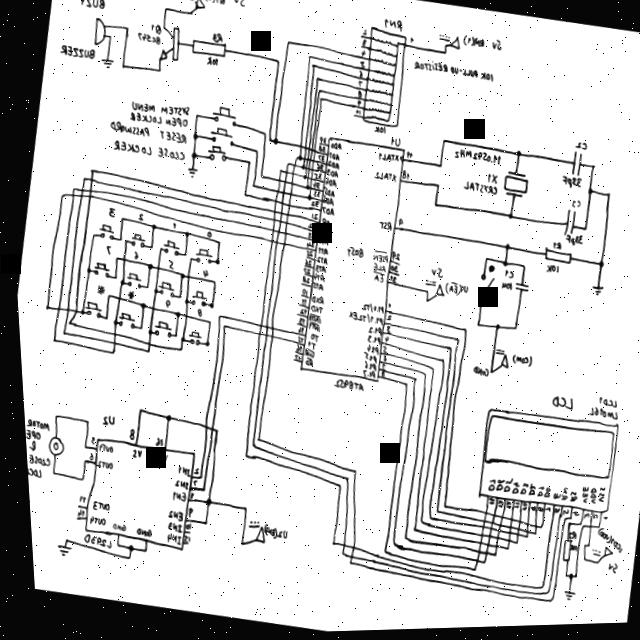capacitor: (559, 212, 574, 242), (568, 153, 580, 180), (510, 284, 525, 296)
crossover: (51, 305, 57, 313), (198, 424, 204, 432), (466, 560, 472, 566), (274, 179, 279, 185), (285, 193, 290, 199), (278, 191, 283, 197), (272, 190, 277, 196), (277, 202, 282, 208), (282, 213, 287, 219), (269, 218, 274, 224), (500, 532, 505, 538), (152, 266, 157, 272), (118, 257, 123, 263), (273, 231, 278, 236), (254, 324, 259, 329), (334, 544, 339, 549), (469, 552, 474, 557), (476, 553, 481, 558), (478, 545, 483, 550), (472, 535, 477, 540), (479, 536, 484, 541), (146, 307, 151, 312), (69, 309, 74, 314), (269, 210, 273, 216), (280, 232, 284, 238), (266, 240, 270, 246), (344, 546, 348, 552), (581, 527, 585, 533), (113, 296, 117, 302), (62, 307, 66, 313), (290, 164, 294, 169), (288, 173, 292, 178), (282, 171, 286, 176), (280, 181, 284, 186), (271, 200, 275, 205), (284, 204, 288, 209), (276, 212, 280, 217), (275, 220, 279, 225), (281, 222, 285, 227), (268, 229, 272, 234), (266, 327, 270, 332), (260, 326, 264, 331), (253, 333, 257, 338), (260, 334, 264, 339), (342, 556, 346, 561), (487, 546, 491, 551), (471, 543, 475, 548), (500, 541, 504, 546), (474, 527, 478, 532), (475, 521, 479, 526), (483, 523, 487, 528), (491, 525, 495, 530), (501, 527, 505, 532), (518, 532, 522, 537), (510, 521, 514, 526), (477, 513, 481, 518), (108, 332, 112, 337), (108, 341, 112, 346), (143, 342, 147, 347), (85, 194, 89, 199), (85, 189, 89, 194), (87, 178, 91, 183), (77, 188, 81, 193), (482, 529, 486, 533), (287, 183, 291, 187), (271, 242, 275, 246), (266, 336, 270, 340), (488, 538, 492, 542), (508, 535, 512, 539), (490, 531, 494, 535), (509, 530, 513, 534), (518, 525, 522, 529), (502, 520, 506, 524), (493, 517, 497, 521), (485, 516, 489, 520), (296, 146, 300, 150), (180, 315, 184, 319), (279, 243, 282, 248), (527, 527, 530, 532), (302, 147, 305, 152), (306, 159, 309, 164), (305, 148, 308, 153), (308, 149, 311, 154), (309, 160, 312, 165), (305, 168, 308, 173), (306, 187, 309, 192), (183, 275, 186, 280), (69, 193, 72, 198), (300, 159, 303, 163), (311, 151, 314, 155), (308, 169, 311, 173), (302, 168, 305, 172), (304, 178, 307, 182), (307, 179, 310, 183), (77, 194, 80, 198), (304, 159, 306, 163)
ground: (49, 544, 65, 557), (183, 167, 196, 182), (586, 287, 600, 300), (99, 58, 113, 70), (555, 593, 568, 604)
junction: (104, 522, 120, 533), (187, 151, 196, 161), (500, 244, 508, 255), (198, 498, 206, 508), (159, 413, 167, 423), (135, 301, 143, 311), (190, 132, 197, 142), (204, 301, 211, 311), (594, 263, 601, 272), (584, 190, 591, 199), (489, 325, 496, 334), (384, 541, 391, 550), (503, 215, 510, 223), (273, 59, 280, 67), (429, 203, 436, 211), (119, 63, 126, 71), (235, 506, 242, 514), (143, 263, 150, 271), (512, 153, 519, 161), (120, 544, 127, 552), (132, 407, 138, 416), (118, 555, 125, 562), (588, 166, 594, 174), (435, 164, 441, 172), (471, 323, 477, 331), (508, 326, 514, 334), (603, 194, 609, 202), (517, 265, 523, 273), (47, 413, 53, 421), (432, 184, 438, 192), (200, 341, 206, 349), (578, 228, 584, 236), (155, 67, 161, 75), (212, 240, 218, 248), (40, 303, 46, 311), (87, 167, 93, 175), (123, 25, 129, 33), (79, 418, 85, 426), (256, 173, 262, 181), (458, 328, 464, 336), (270, 139, 276, 147), (260, 132, 266, 140), (211, 259, 217, 267), (171, 311, 177, 319), (498, 262, 504, 270), (483, 370, 489, 378), (192, 113, 198, 120), (196, 520, 202, 527), (45, 469, 51, 476), (345, 470, 351, 477), (47, 337, 53, 344), (439, 140, 445, 147), (435, 505, 441, 512), (147, 224, 153, 231), (73, 475, 79, 482), (474, 561, 480, 568), (135, 547, 141, 554), (176, 273, 182, 280), (108, 319, 114, 326), (448, 339, 455, 345), (243, 161, 249, 168), (208, 427, 213, 435), (304, 195, 309, 203), (162, 7, 168, 13), (485, 554, 491, 560), (217, 324, 223, 330), (181, 232, 187, 238), (116, 217, 122, 223), (330, 484, 336, 490), (395, 537, 401, 543), (57, 192, 62, 199), (232, 541, 237, 548), (176, 337, 181, 344), (88, 232, 93, 239), (180, 252, 185, 259), (398, 383, 403, 390), (425, 368, 430, 375), (213, 314, 218, 321), (180, 299, 185, 306), (149, 288, 154, 295), (116, 279, 121, 286), (83, 267, 88, 274), (252, 150, 257, 157), (240, 192, 245, 199), (283, 162, 288, 169), (338, 477, 343, 484), (57, 537, 62, 544), (531, 586, 536, 593), (375, 550, 380, 557), (412, 520, 417, 527), (195, 487, 200, 494), (174, 347, 179, 353), (324, 541, 329, 547), (407, 378, 412, 384), (76, 459, 81, 465), (417, 374, 422, 380), (208, 281, 213, 287), (120, 239, 125, 245), (134, 326, 139, 332), (63, 320, 68, 326), (57, 330, 62, 336), (106, 350, 111, 356), (115, 237, 120, 243), (248, 184, 253, 190), (276, 169, 281, 175), (173, 295, 178, 301), (284, 42, 290, 47), (306, 56, 311, 62), (317, 98, 322, 104), (480, 259, 485, 265), (250, 437, 255, 443), (532, 527, 537, 533), (537, 592, 542, 598), (405, 528, 410, 534), (421, 517, 426, 523), (77, 444, 82, 450), (295, 157, 300, 163), (188, 11, 193, 17), (333, 552, 338, 558), (561, 576, 565, 583), (465, 570, 470, 575), (146, 245, 151, 250), (169, 334, 174, 339), (309, 65, 314, 70), (108, 543, 113, 548), (428, 511, 433, 516), (420, 300, 425, 305), (436, 360, 440, 366), (443, 348, 447, 354), (76, 309, 80, 315), (100, 315, 104, 321), (142, 349, 146, 355), (266, 138, 270, 144), (314, 78, 318, 84), (107, 34, 111, 40), (560, 524, 564, 530), (542, 599, 546, 605), (303, 186, 307, 192), (300, 176, 304, 182), (298, 166, 302, 172), (193, 475, 197, 481), (238, 454, 242, 459), (341, 562, 345, 567), (518, 537, 522, 542), (246, 444, 250, 449), (498, 548, 502, 553), (203, 321, 207, 326), (186, 257, 190, 262), (155, 247, 159, 252), (141, 285, 145, 290), (111, 256, 115, 261), (316, 90, 320, 95), (442, 53, 446, 58), (442, 46, 446, 51), (574, 527, 578, 532), (575, 560, 579, 565), (526, 534, 530, 539), (110, 276, 114, 280), (69, 187, 73, 191), (571, 525, 575, 529), (566, 577, 570, 581), (421, 292, 425, 296), (576, 546, 579, 551), (293, 157, 296, 162), (562, 519, 565, 524), (556, 520, 559, 525), (508, 543, 511, 547), (80, 177, 83, 181), (590, 528, 593, 532), (557, 577, 560, 581), (580, 547, 583, 551), (588, 564, 591, 568)
resistor: (190, 39, 226, 59), (539, 249, 569, 268), (554, 542, 566, 565)
switch: (209, 106, 237, 128), (207, 127, 233, 148), (473, 275, 491, 305), (148, 320, 169, 339), (204, 146, 225, 164), (153, 281, 172, 300), (158, 240, 178, 258), (113, 312, 132, 330), (186, 290, 204, 309), (121, 272, 139, 290), (94, 223, 112, 241), (80, 301, 98, 319), (191, 249, 210, 266), (89, 262, 107, 279), (127, 233, 143, 249), (183, 331, 198, 348)
terminal: (247, 527, 259, 545), (448, 38, 461, 53), (495, 356, 505, 372), (193, 0, 206, 11), (595, 549, 606, 561), (431, 286, 441, 299)
text: (411, 60, 495, 86), (107, 120, 186, 146), (109, 137, 184, 164), (129, 98, 189, 120), (127, 110, 187, 131), (450, 149, 501, 169), (588, 530, 617, 557), (58, 43, 95, 62), (459, 182, 496, 199), (582, 408, 614, 426), (343, 312, 379, 328), (255, 524, 282, 543), (328, 379, 359, 395), (76, 533, 106, 549), (440, 282, 465, 301), (21, 449, 46, 467), (545, 397, 569, 415), (19, 416, 45, 432), (461, 36, 484, 52), (136, 32, 161, 46), (371, 172, 395, 186), (382, 19, 403, 35), (356, 303, 380, 317), (558, 178, 579, 193), (507, 355, 528, 370), (592, 398, 613, 413), (79, 0, 105, 11), (375, 153, 397, 166), (560, 237, 580, 251), (368, 251, 386, 266), (342, 247, 361, 261), (466, 367, 484, 381), (85, 500, 104, 513), (82, 514, 100, 527), (159, 533, 175, 547), (160, 510, 177, 523), (90, 459, 108, 471), (22, 465, 37, 479), (20, 428, 36, 441), (357, 353, 373, 366), (96, 414, 110, 428), (541, 265, 556, 278), (165, 491, 180, 504), (129, 527, 145, 539), (160, 522, 176, 534), (362, 327, 378, 339), (573, 488, 583, 507), (496, 479, 507, 496), (375, 221, 389, 234), (367, 273, 381, 286), (92, 443, 108, 454), (167, 480, 183, 491), (387, 137, 400, 150), (426, 269, 440, 281), (171, 466, 185, 478), (361, 346, 375, 358), (358, 362, 372, 374), (368, 264, 383, 275), (361, 336, 376, 347), (202, 0, 225, 7), (490, 41, 502, 54), (322, 178, 335, 190), (320, 188, 333, 200), (319, 196, 332, 208), (303, 323, 316, 335), (149, 452, 163, 463), (323, 170, 337, 181), (590, 489, 599, 506), (582, 491, 591, 508), (480, 481, 490, 496), (211, 33, 223, 45), (149, 24, 161, 36), (299, 349, 311, 361), (205, 57, 218, 68), (325, 162, 338, 173), (304, 315, 317, 326), (484, 175, 495, 188), (357, 371, 371, 381), (318, 208, 332, 218), (305, 306, 319, 316), (553, 489, 562, 504), (497, 283, 509, 294), (326, 153, 338, 164), (371, 127, 384, 137), (92, 284, 102, 297), (572, 144, 585, 154), (488, 481, 498, 494), (512, 485, 522, 498), (309, 274, 322, 284), (307, 296, 320, 306), (232, 0, 246, 9), (504, 483, 513, 497), (548, 243, 559, 254), (125, 448, 136, 459), (600, 565, 610, 577), (328, 143, 340, 153), (314, 238, 326, 248), (311, 266, 323, 276), (308, 283, 320, 293), (22, 439, 31, 452), (312, 258, 325, 267), (122, 428, 130, 442), (521, 485, 529, 499), (305, 334, 315, 345), (302, 342, 312, 353), (299, 358, 309, 369), (318, 219, 328, 230), (314, 248, 325, 258), (388, 252, 397, 264), (562, 494, 571, 506), (530, 488, 538, 501), (568, 202, 578, 212), (500, 272, 510, 282), (148, 438, 158, 448), (317, 230, 327, 240), (399, 172, 408, 183), (122, 290, 131, 301), (163, 260, 172, 271), (561, 533, 570, 544), (537, 489, 544, 502), (297, 277, 307, 286), (302, 242, 312, 251), (394, 219, 402, 230), (105, 207, 113, 218), (180, 508, 187, 520), (309, 182, 318, 191), (403, 152, 411, 162), (134, 212, 142, 222), (304, 224, 314, 232), (70, 508, 78, 517), (72, 495, 80, 504), (561, 547, 570, 555), (386, 267, 395, 275), (290, 345, 298, 354), (304, 233, 313, 241), (317, 137, 325, 146), (313, 164, 321, 173), (307, 201, 316, 209), (84, 436, 91, 446), (129, 251, 136, 261), (310, 174, 320, 181), (102, 245, 108, 256), (357, 62, 365, 70), (546, 495, 554, 503), (481, 500, 489, 508), (385, 277, 393, 285), (292, 337, 300, 345), (299, 269, 307, 277), (302, 251, 310, 259), (307, 214, 315, 222), (316, 147, 324, 155), (315, 156, 323, 164), (310, 192, 318, 200), (192, 309, 199, 318), (198, 270, 205, 279), (178, 523, 185, 532), (177, 535, 184, 544), (576, 515, 583, 524), (514, 505, 521, 514), (498, 503, 505, 512), (490, 502, 497, 511), (294, 318, 301, 327), (82, 452, 88, 462), (161, 299, 167, 309), (381, 316, 388, 324), (353, 110, 360, 118), (187, 468, 194, 476), (565, 514, 573, 521), (555, 511, 562, 519), (293, 328, 300, 336), (289, 355, 297, 362), (295, 310, 303, 317), (297, 290, 304, 298), (301, 260, 308, 268), (585, 515, 591, 524), (547, 510, 554, 517), (359, 51, 365, 59), (355, 92, 361, 100), (408, 39, 414, 47), (507, 504, 513, 512), (381, 327, 387, 335), (379, 337, 385, 345), (356, 82, 362, 89), (203, 232, 209, 239), (361, 31, 367, 38), (186, 480, 192, 487), (530, 509, 537, 515), (377, 348, 383, 355), (297, 300, 303, 307), (355, 101, 360, 109), (357, 72, 362, 80), (183, 492, 188, 500), (538, 509, 544, 515), (523, 508, 529, 514), (361, 41, 366, 48), (169, 223, 174, 230), (375, 372, 380, 379), (376, 365, 381, 372), (377, 357, 382, 364), (383, 304, 387, 312), (595, 519, 601, 524)
transistor: (156, 25, 181, 65)
